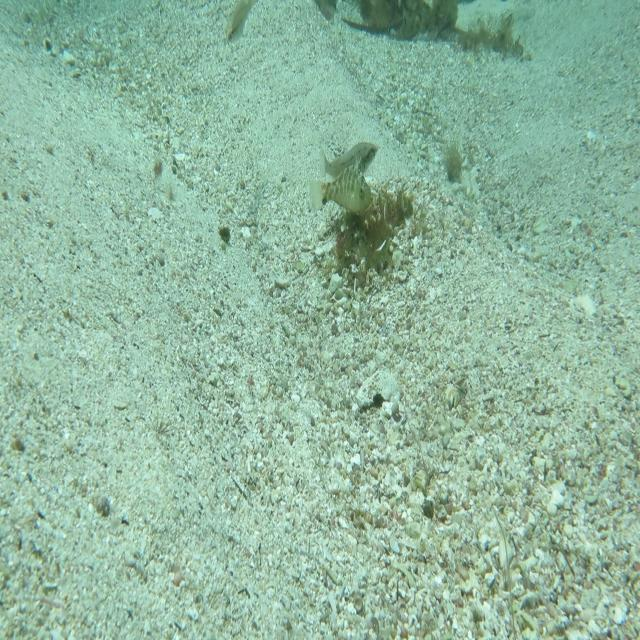BEND_OPP: (306, 152, 375, 215)
female: (317, 138, 381, 178)
nest: (313, 169, 417, 305)
